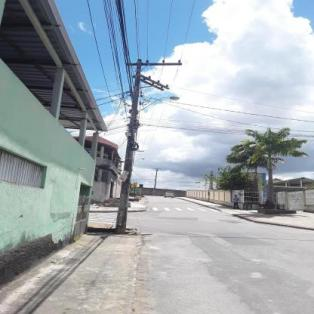Poste: (113, 57, 144, 233)
